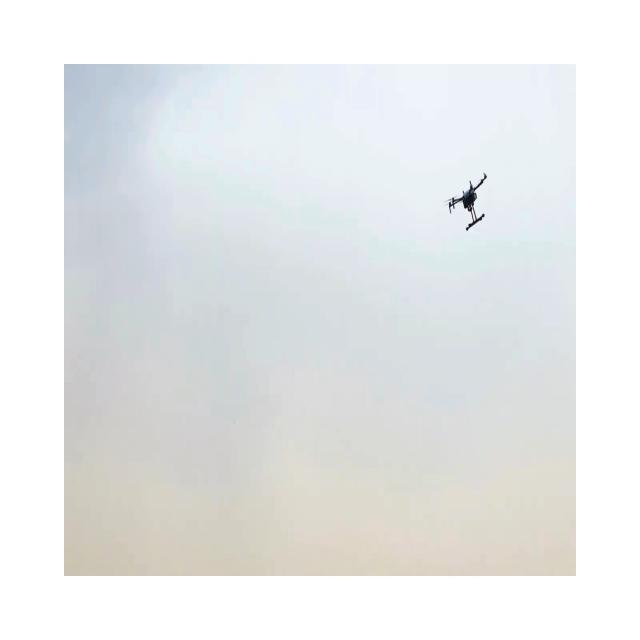drone: (444, 171, 487, 231)
